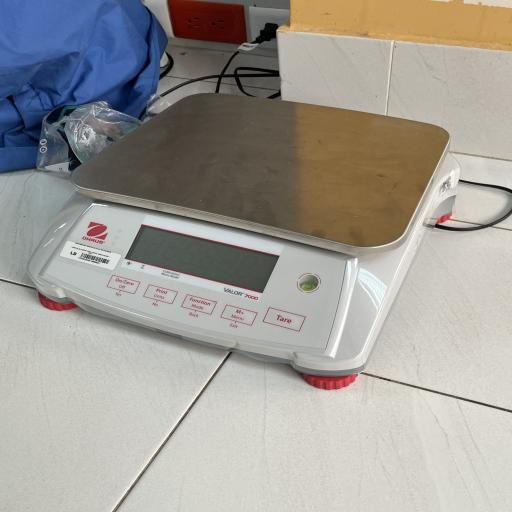Balanza_Granataria_Ohaus: (13, 84, 486, 397)
